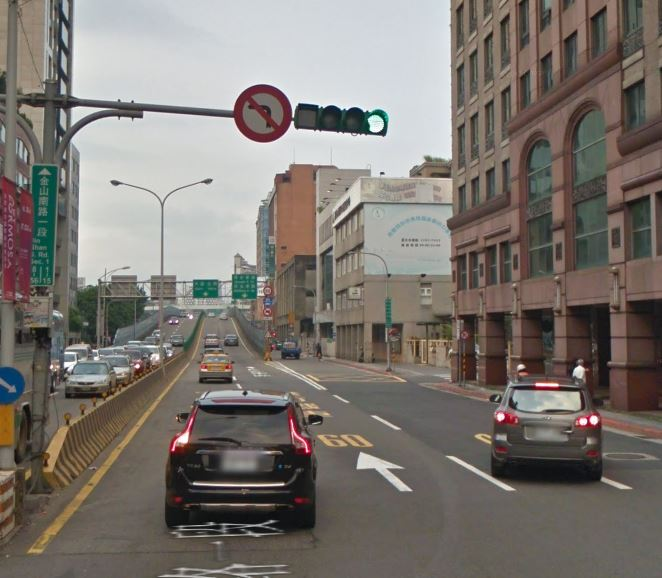Traffic_light_green: (295, 98, 390, 140)
car: (163, 389, 322, 534), (484, 372, 609, 483), (195, 351, 235, 383)
